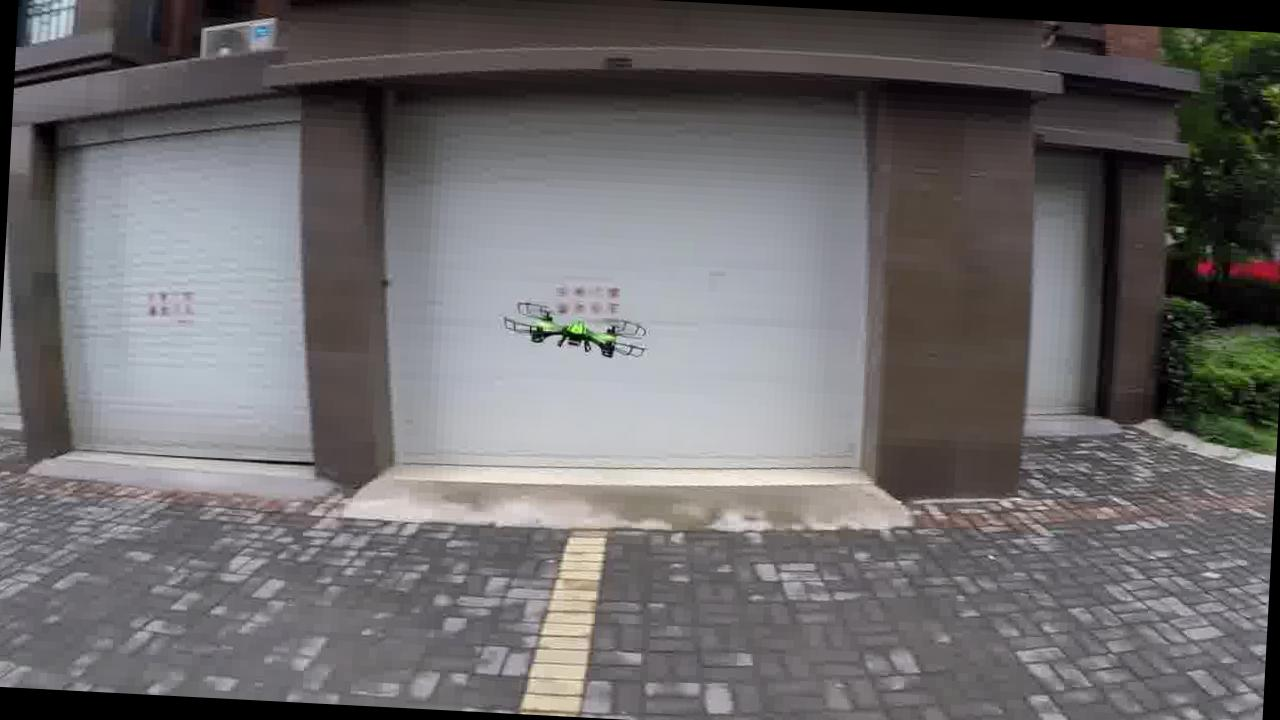drone: (499, 284, 657, 362)
